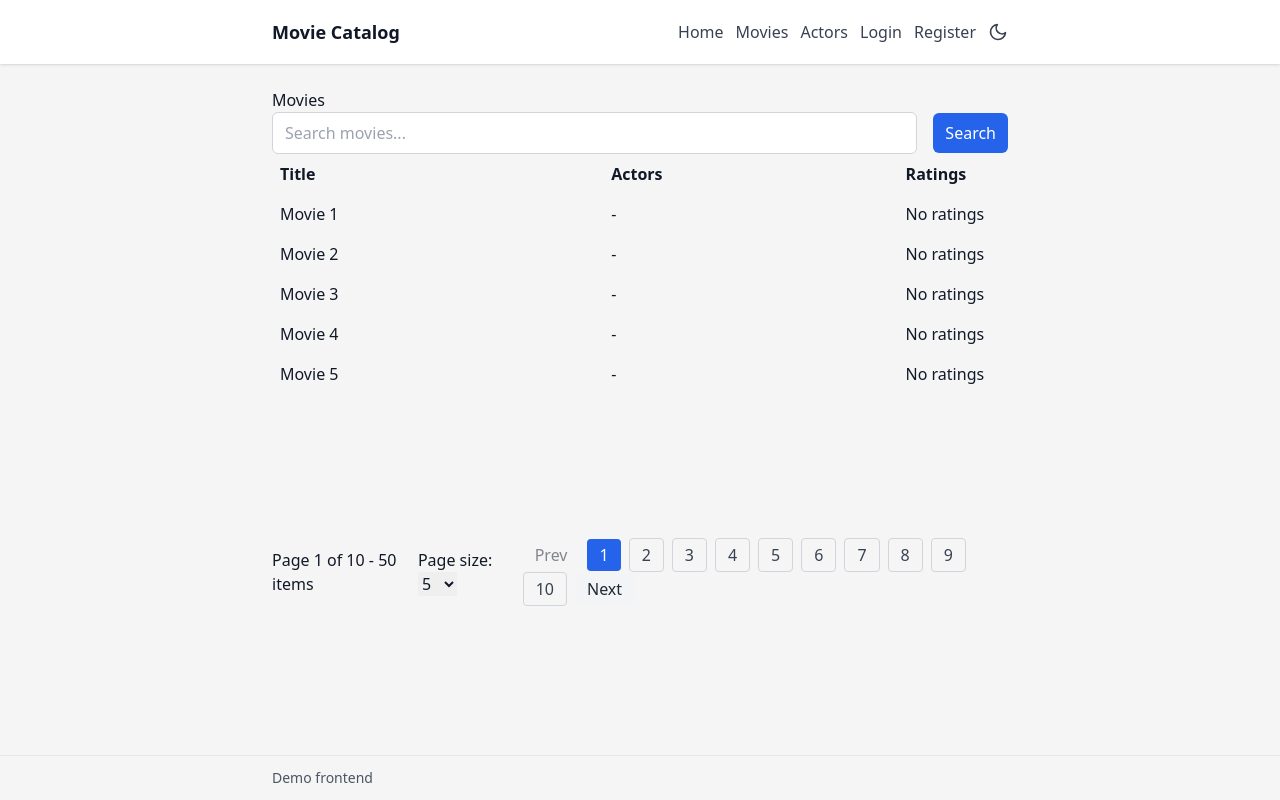
Test case: Pagination button range › limits number of page buttons to 10 and navigates
The image size is (1280, 800).
Expected: the link "Movie 1" is shown, [280,203,338,225]
Note: click page 5
Click the button "5".
click(776, 555)  # box [758,538,793,572]
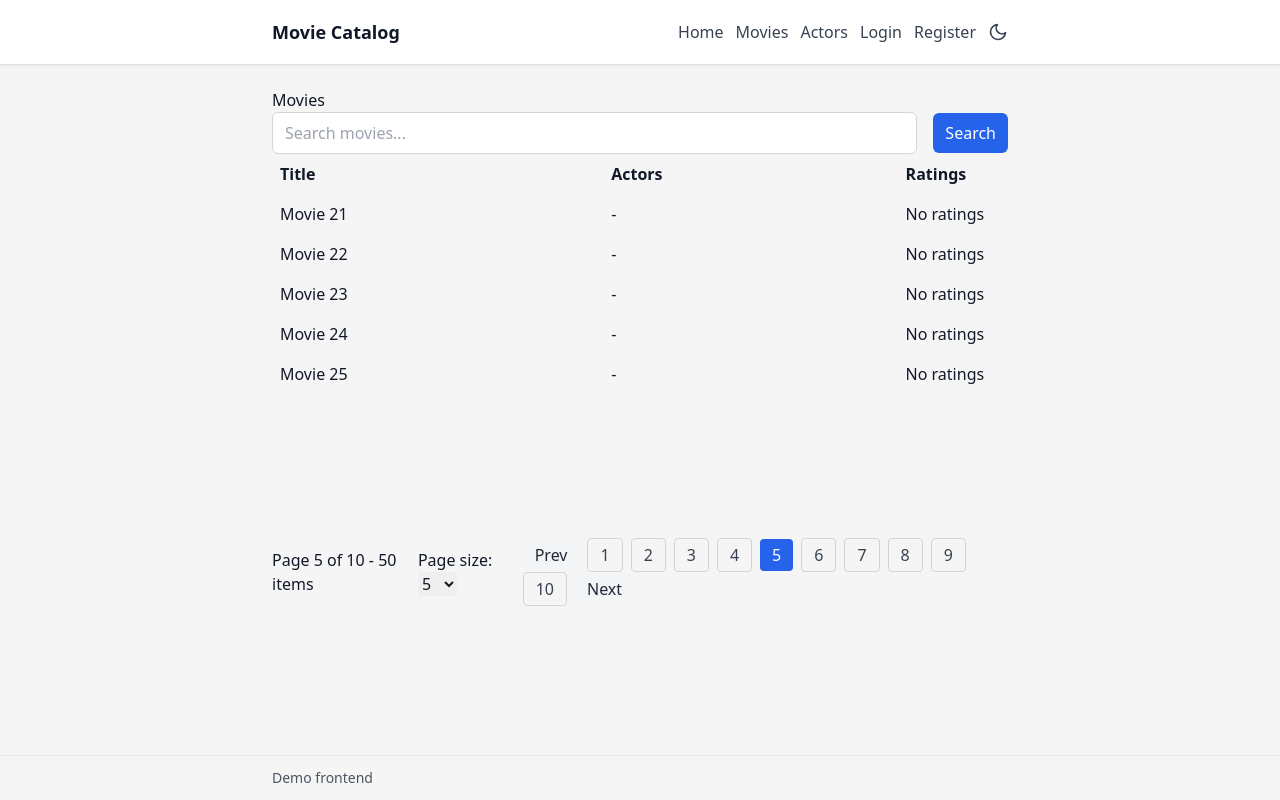
Result: the link "Movie 21" is shown at [280,203,348,225]
